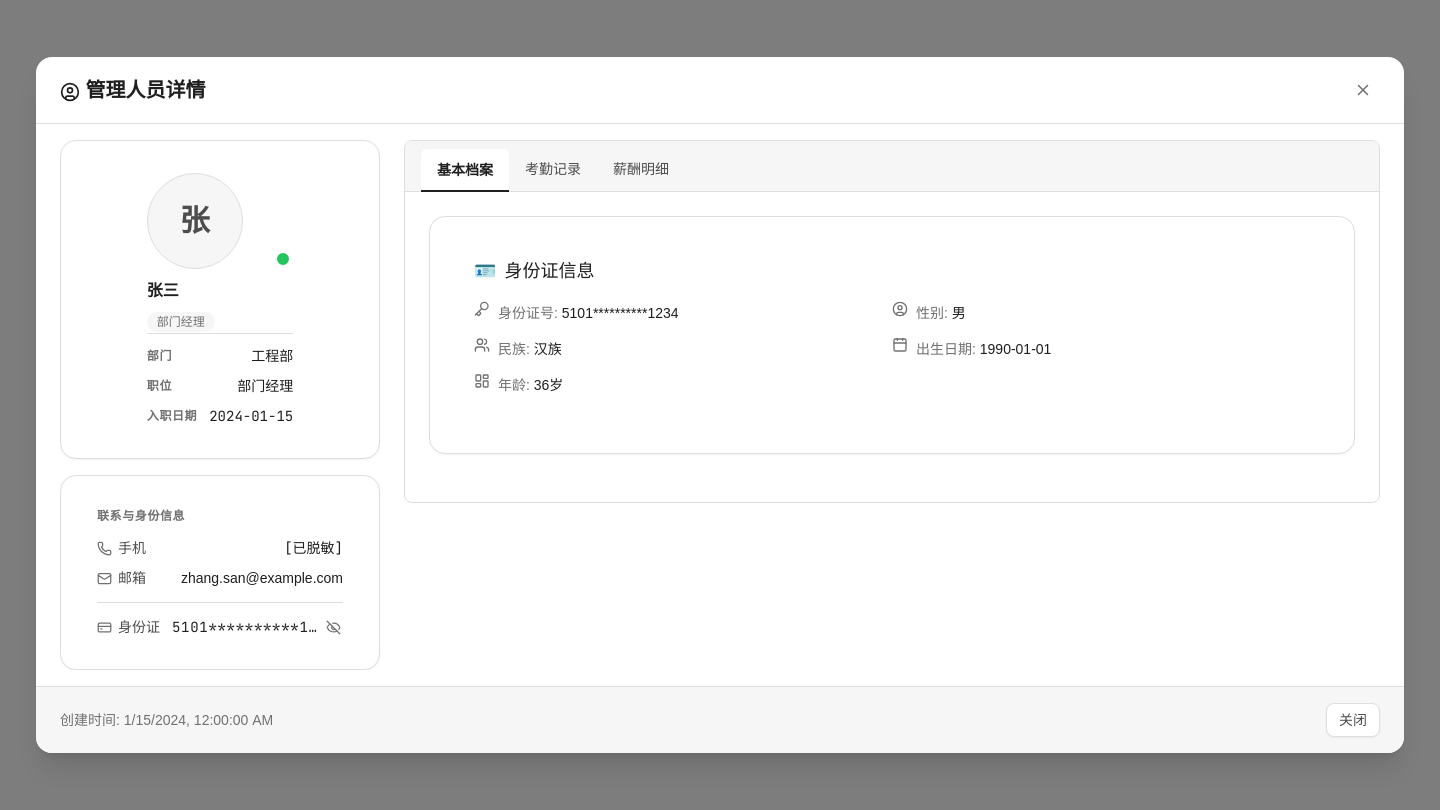
MemberDetail (S23) › 切换到考勤记录 Tab 后拉取并渲染考勤数据
Click the button "考勤记录": (553, 170) [509, 149, 597, 191]
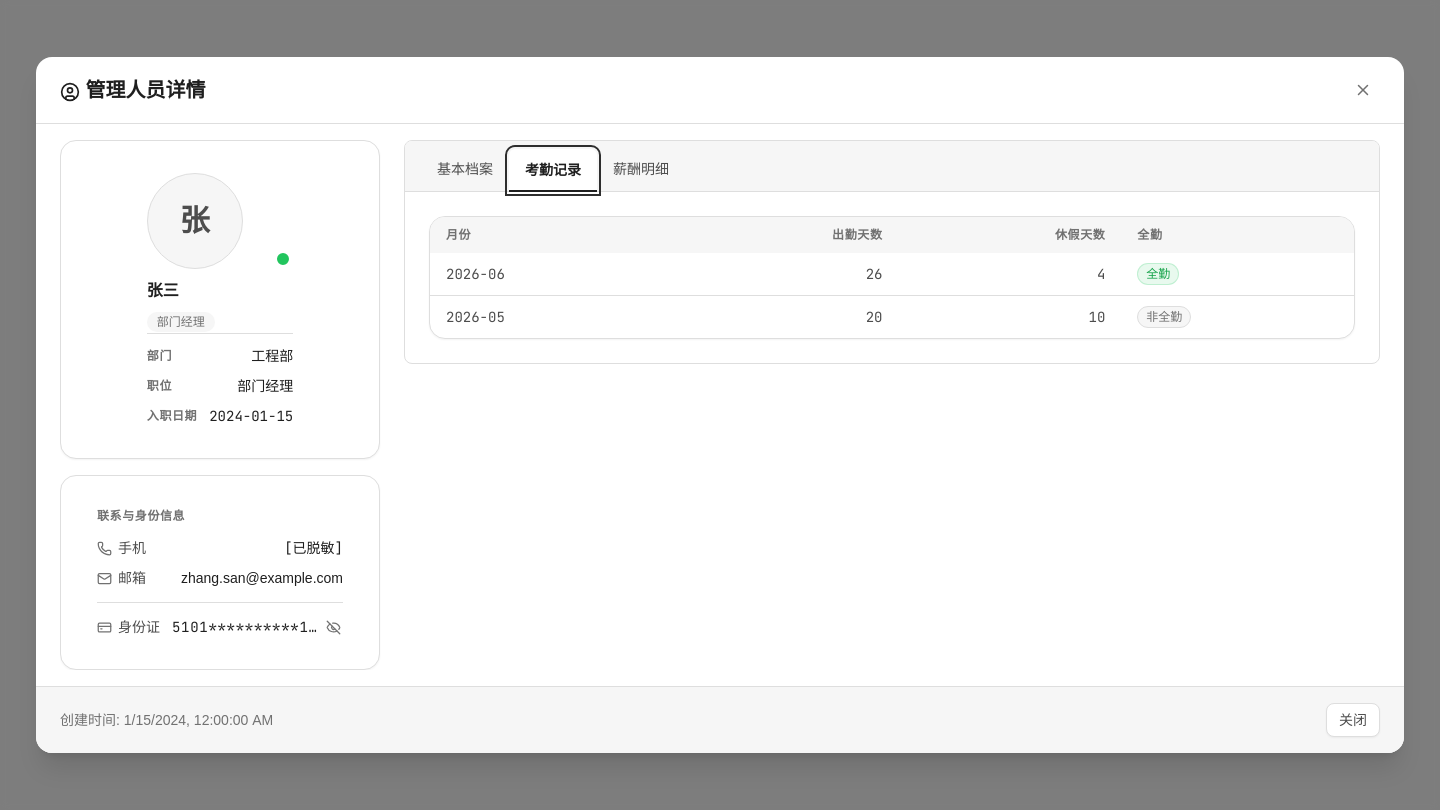
Expected: the text "2026-06" is shown, [430, 253, 676, 295]
Expected: the text "2026-05" is shown, [430, 295, 676, 338]
Expected: the text "非全勤" is shown, [1137, 306, 1191, 328]
